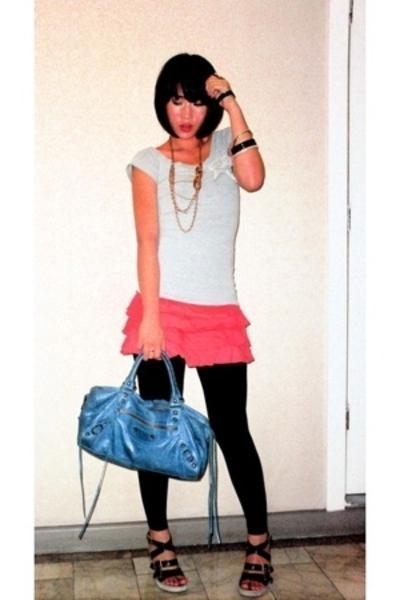bag: (77, 354, 217, 491)
shirt: (132, 140, 243, 305)
shoe: (143, 530, 281, 587)
skirt: (120, 293, 251, 372)
